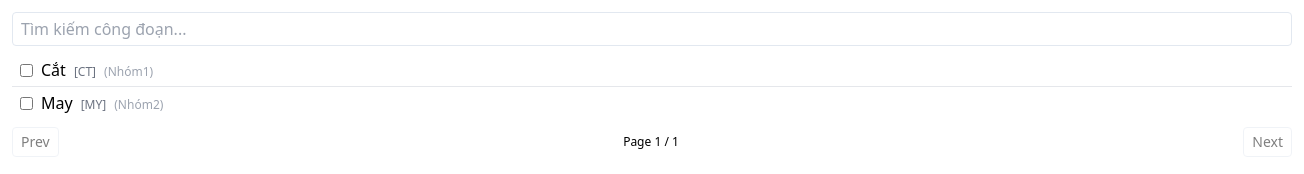
Test case: StepMultiSelect › filters by search
In the field with placeholder "Tìm kiếm công đoạn...": (652, 29) top-left (12, 12), bottom-right (1292, 46), type "MY"
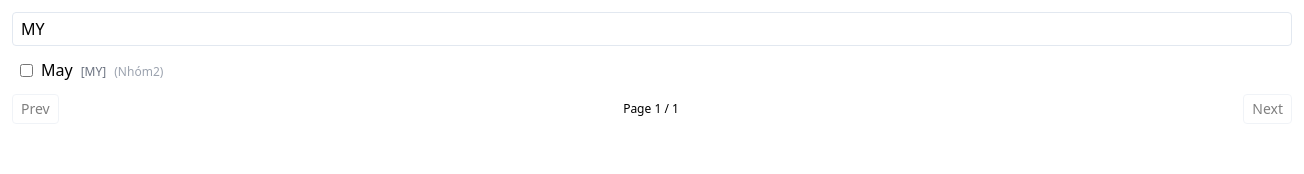
Expected: the text "May" is shown, top-left (41, 59), bottom-right (73, 81)
Now the button "Cắt" is gone
